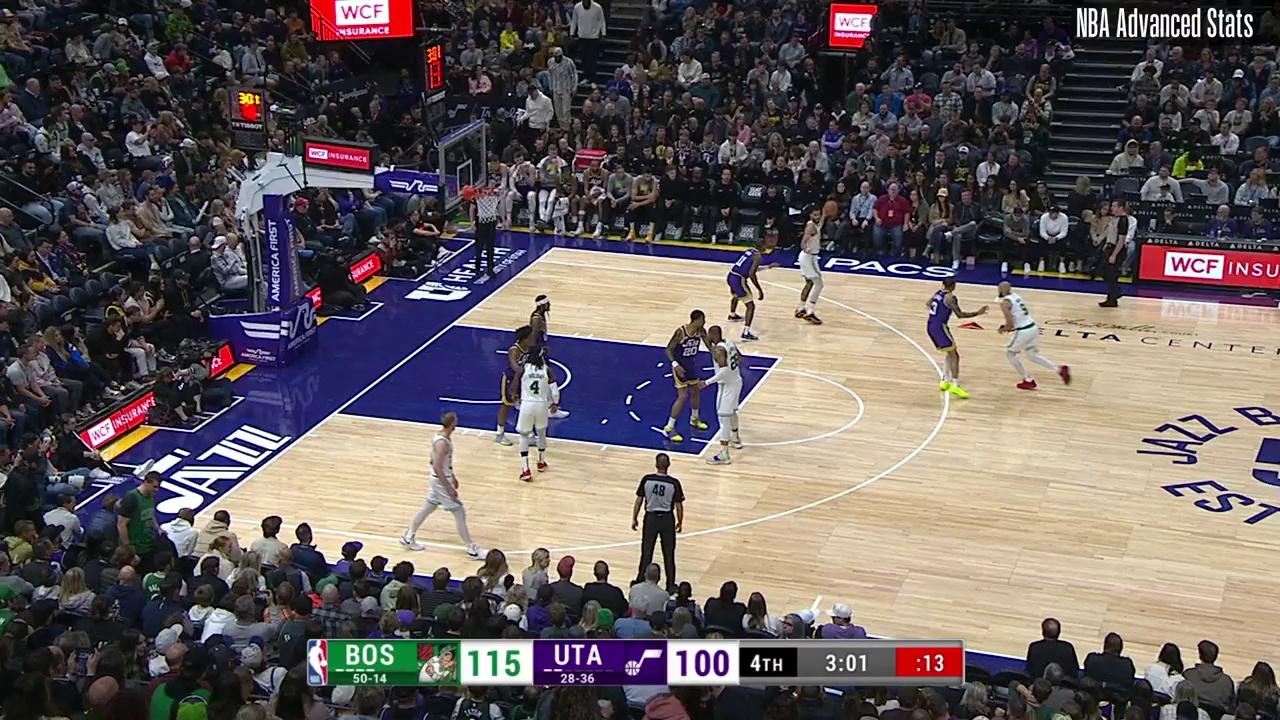3_dx: (533, 257, 542, 266)
b_dx: (550, 244, 559, 252)
free_adx: (775, 354, 785, 364)
free_asx: (693, 449, 707, 462)
free_bdx: (449, 319, 459, 329)
free_bsx: (329, 408, 341, 419)
half_sx: (190, 509, 205, 522)
mid_dx: (992, 298, 999, 304)
mid_sx: (814, 591, 826, 601)
referee: (630, 451, 686, 595), (463, 188, 504, 279), (1096, 200, 1130, 309)
team: (400, 409, 492, 556), (994, 276, 1075, 393), (510, 346, 561, 484), (701, 324, 749, 467), (795, 197, 833, 326)
team1: (926, 275, 990, 399), (661, 308, 708, 441), (490, 326, 542, 446), (728, 237, 776, 341), (529, 292, 568, 416)
timer: (818, 647, 878, 683)
